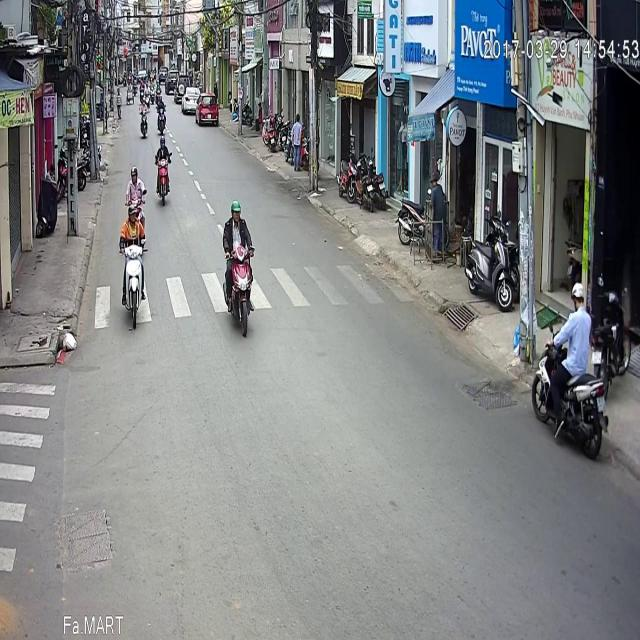car: (196, 34, 218, 68), (181, 28, 201, 56)
motorcycle: (532, 228, 608, 400), (222, 142, 254, 283), (118, 147, 148, 273), (124, 108, 148, 175), (154, 78, 172, 144), (138, 39, 149, 81), (156, 38, 167, 78)
